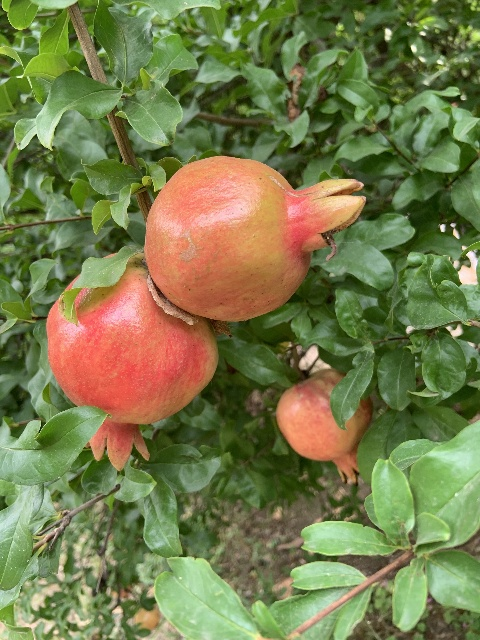ripe: (46, 254, 216, 473), (145, 156, 366, 321), (276, 370, 373, 483)
